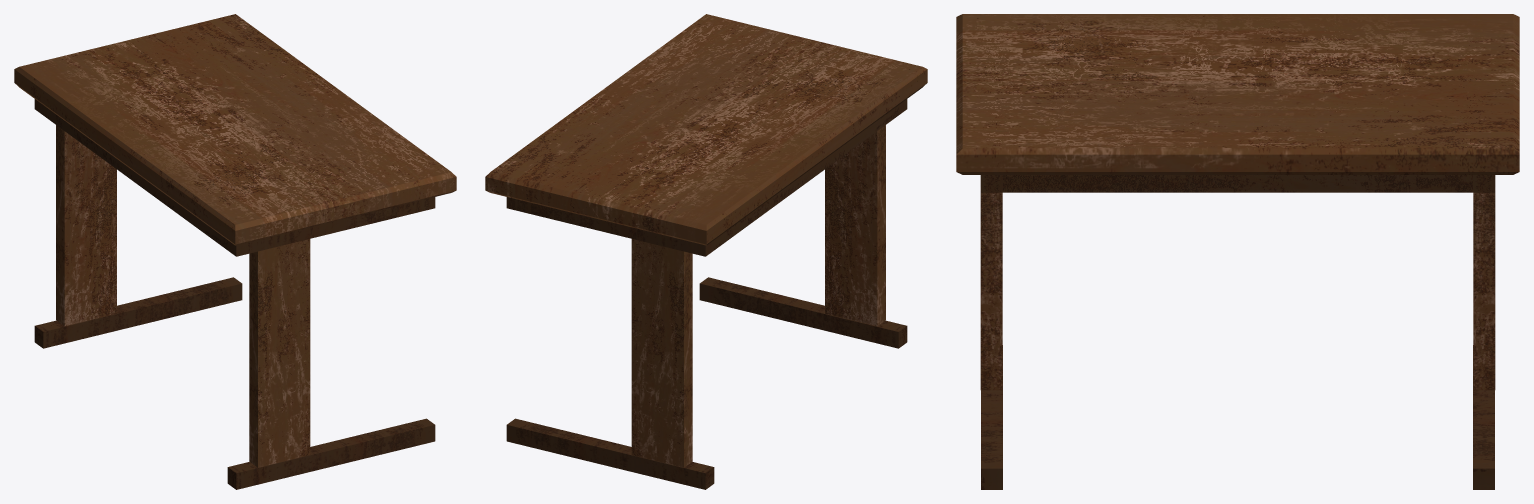
Rendered from Table.fbx.
3 views of the same model, side by side, from view 1: azimuth 30°, elevation 25°; view 2: azimuth 150°, elevation 25°; view 3: azimuth 270°, elevation 25° (orthographic). The views are drawn at different scales.
Visible parts, largest first — view 1: Hospital_Room:table; view 2: Hospital_Room:table; view 3: Hospital_Room:table.
Boxes of the visible parts, <box> form: Hospital_Room:table: <box>14,14,456,489</box>; Hospital_Room:table: <box>485,14,927,489</box>; Hospital_Room:table: <box>956,14,1519,489</box>.
Size of the model in its own units: 5.53 by 6.5 by 9.56.
